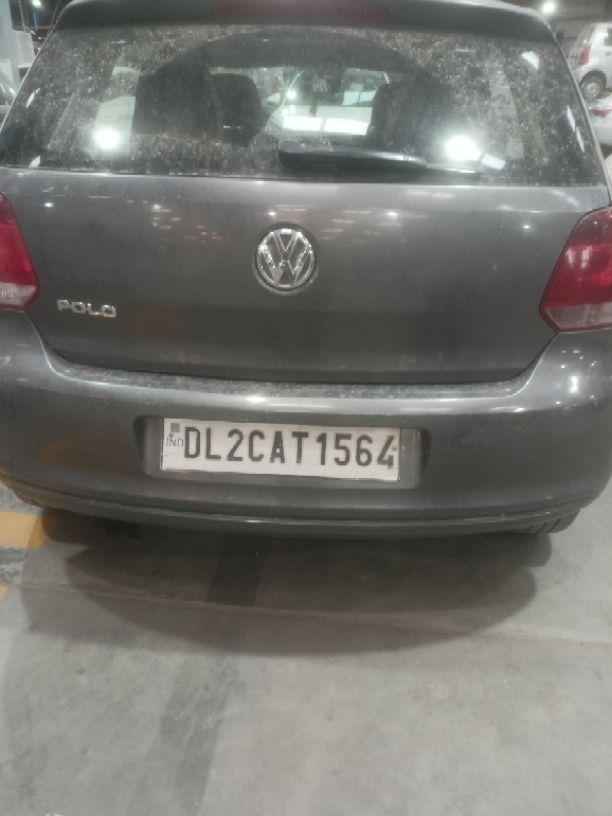license_plate: (151, 415, 406, 485)
